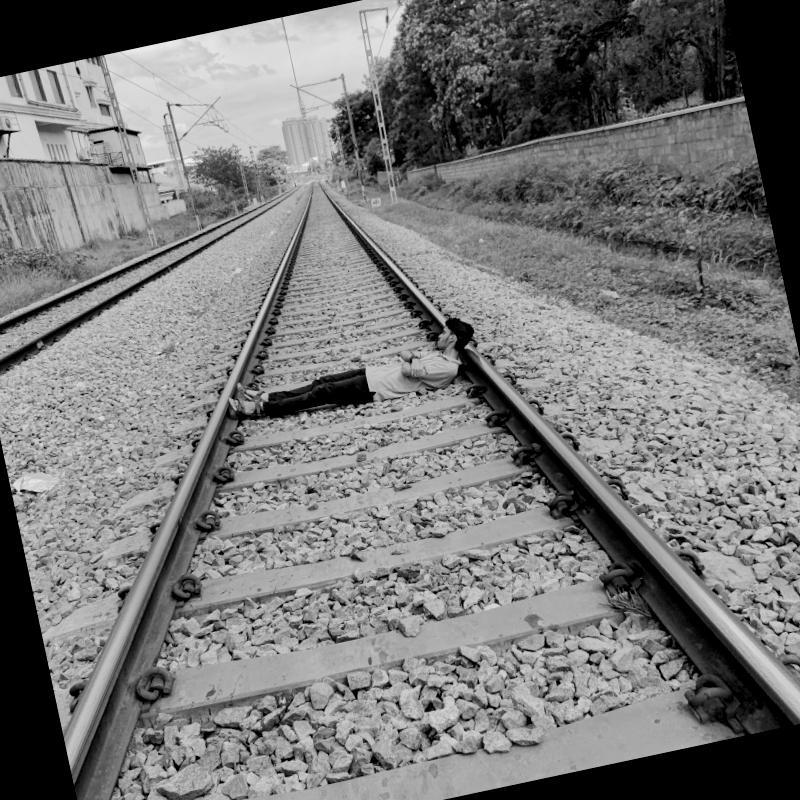sleeping: (213, 308, 492, 435)
